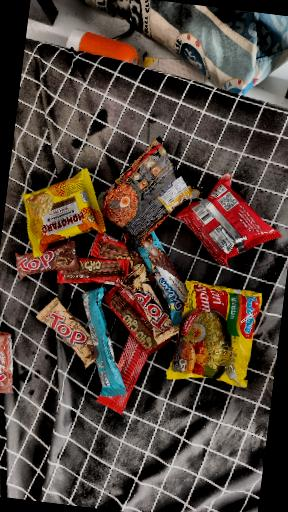indomie: (166, 279, 272, 395)
mie sedap: (128, 125, 195, 251)
momotaro: (5, 164, 120, 262), (185, 169, 287, 272)
top: (26, 290, 107, 387)
